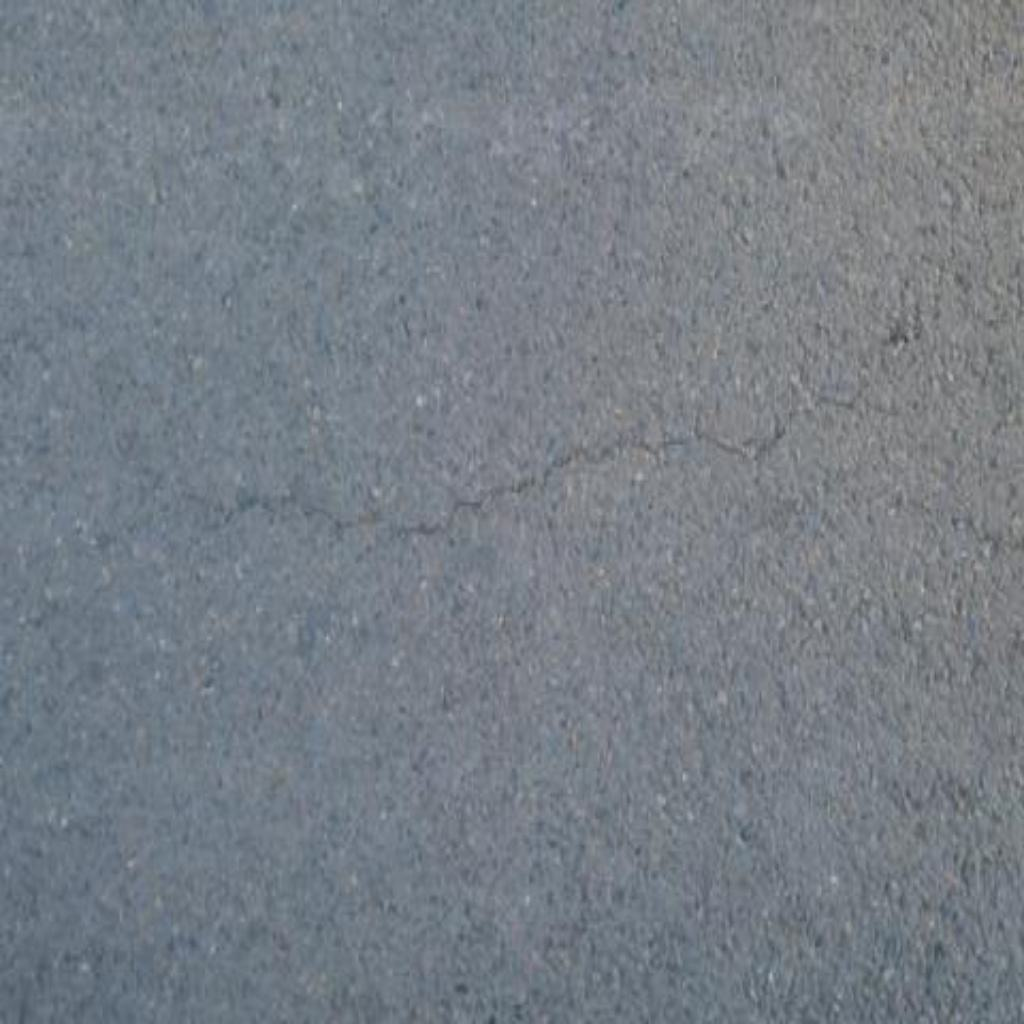Crack: (179, 410, 859, 543)
